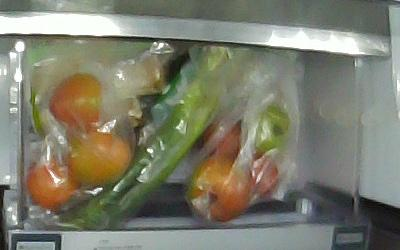tomato_vinyl: (185, 154, 252, 222), (63, 132, 130, 182), (47, 70, 104, 125), (27, 157, 76, 210), (199, 117, 241, 163), (253, 106, 290, 150), (249, 152, 277, 196)
